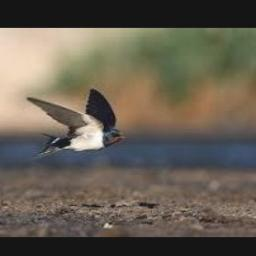Swallow: (27, 88, 125, 159)
